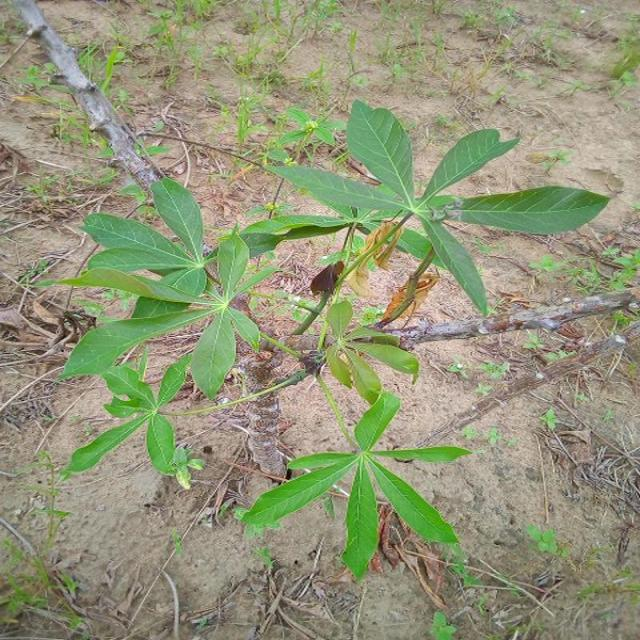cassava leaf: (260, 97, 610, 318), (239, 387, 471, 579)
